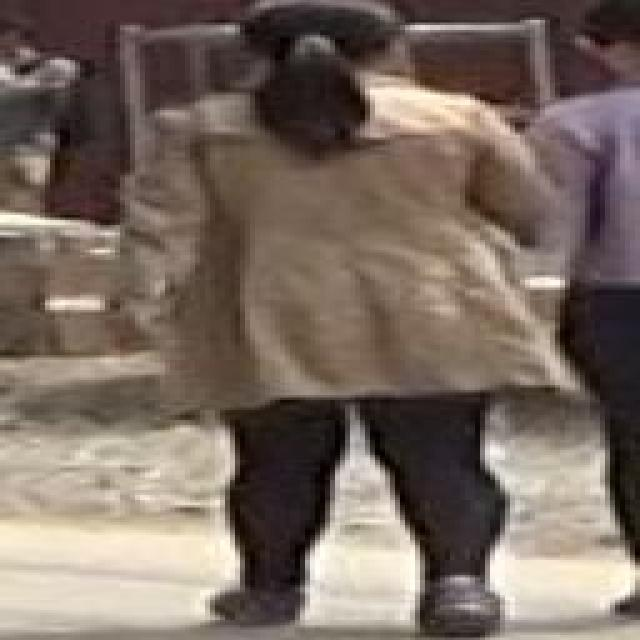adult: (77, 0, 553, 625)
